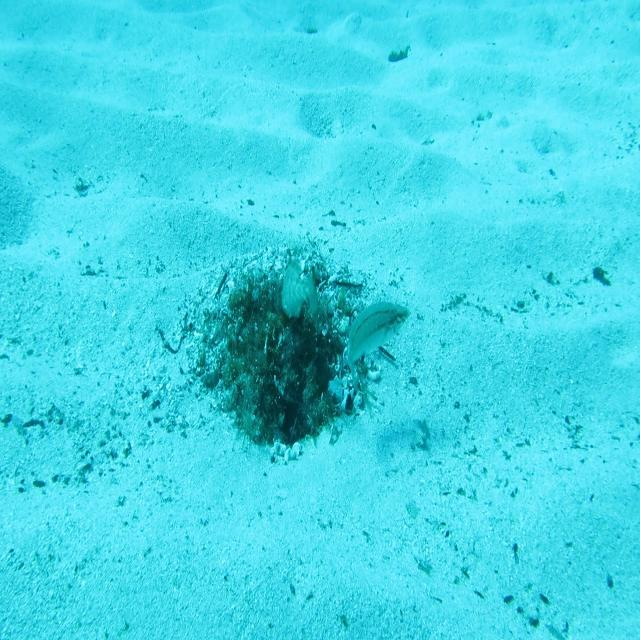NIP_CORE: (279, 256, 320, 326)
core_nest: (254, 296, 310, 330)
female: (346, 298, 412, 404)
nest: (178, 226, 394, 480)
vegetation: (387, 44, 411, 67)
